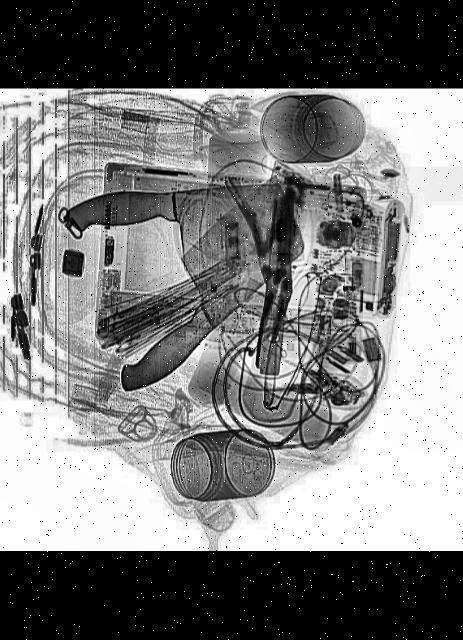Knife: (66, 173, 340, 400), (64, 182, 299, 276)
